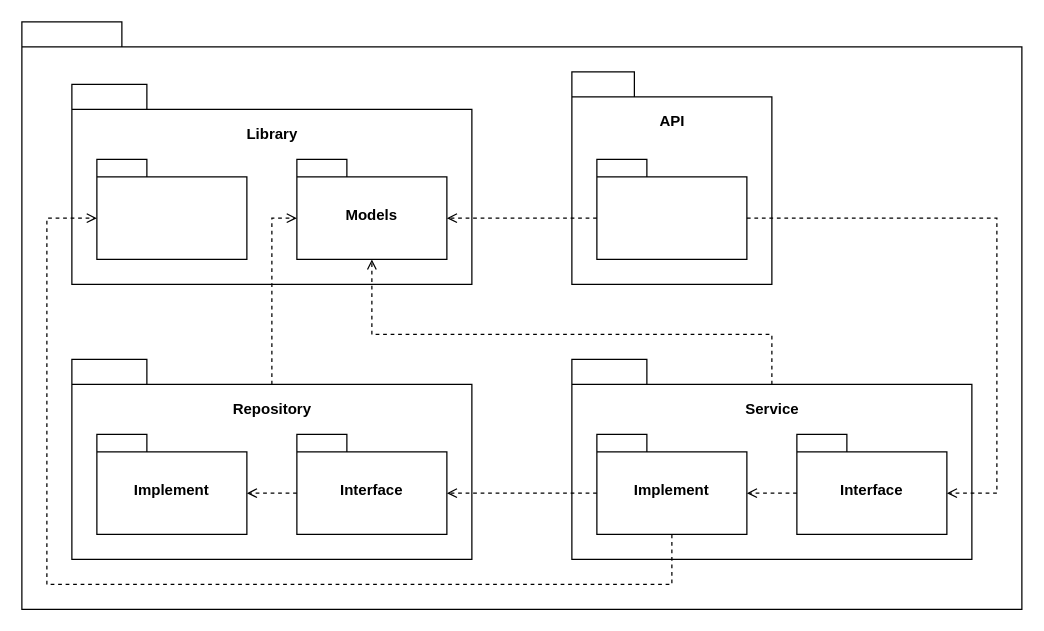
Image size: 1044x631. Some labels were removed from this diagram. The centre of each missing label's shape, as x and y in pixels:
Controllers: the point at 671,208
Utils: the point at 171,208
